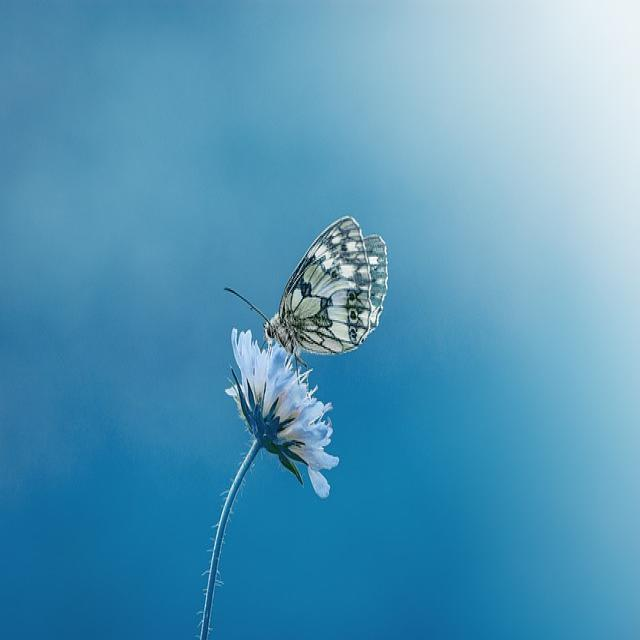butterfly: (265, 216, 388, 354)
